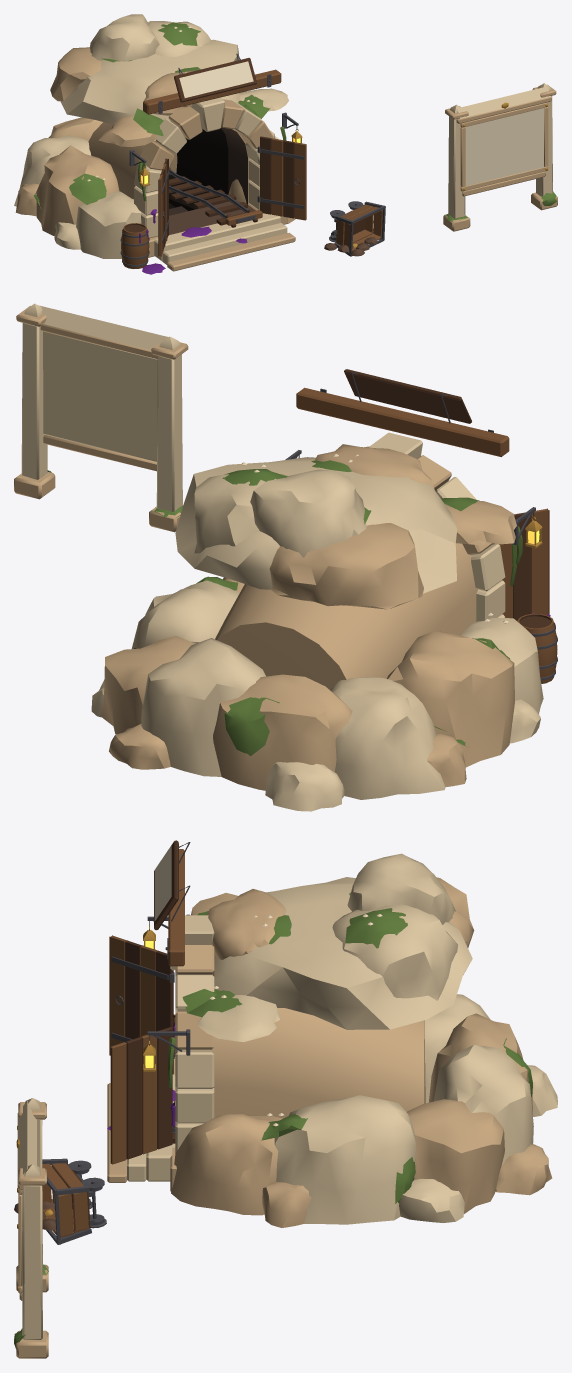
Rendered from plaza_entrance.glb.
The picture shows the model from 3 angles, top to bottom: view 1: azimuth 30°, elevation 25°; view 2: azimuth 150°, elevation 25°; view 3: azimuth 270°, elevation 25°; orthographic projection. The views are drawn at different scales.
Visible parts, largest first — view 1: plaza_cave_entrance, plaza_records_board, board_face, plaza_cave_entrance_sign; view 2: plaza_cave_entrance, plaza_records_board; view 3: plaza_cave_entrance, plaza_records_board, plaza_cave_entrance_sign.
Part boxes in pixels (left/top/right/bottom): plaza_cave_entrance: left=14, top=14, right=385, bottom=274; plaza_records_board: left=443, top=83, right=557, bottom=231; board_face: left=465, top=108, right=543, bottom=185; plaza_cave_entrance_sign: left=179, top=61, right=253, bottom=97; plaza_cave_entrance: left=91, top=369, right=557, bottom=811; plaza_records_board: left=14, top=303, right=188, bottom=532; plaza_cave_entrance: left=14, top=840, right=557, bottom=1244; plaza_records_board: left=14, top=1098, right=48, bottom=1358; plaza_cave_entrance_sign: left=154, top=845, right=171, bottom=921.
Size of the model in its own units: 11.47 by 4.78 by 8.41.
